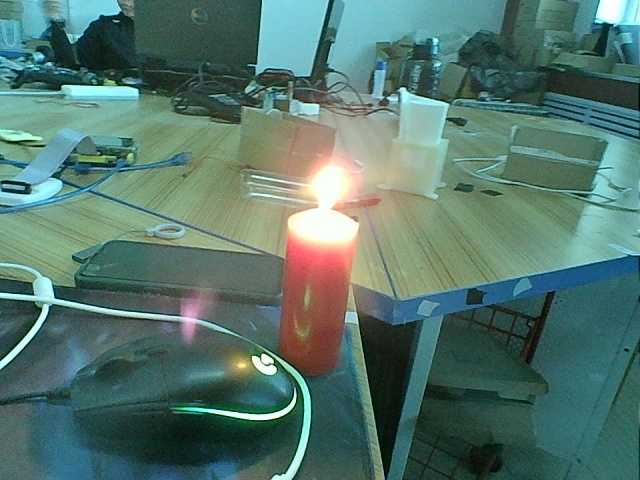candle: (276, 209, 362, 378)
fire: (295, 156, 359, 223)
